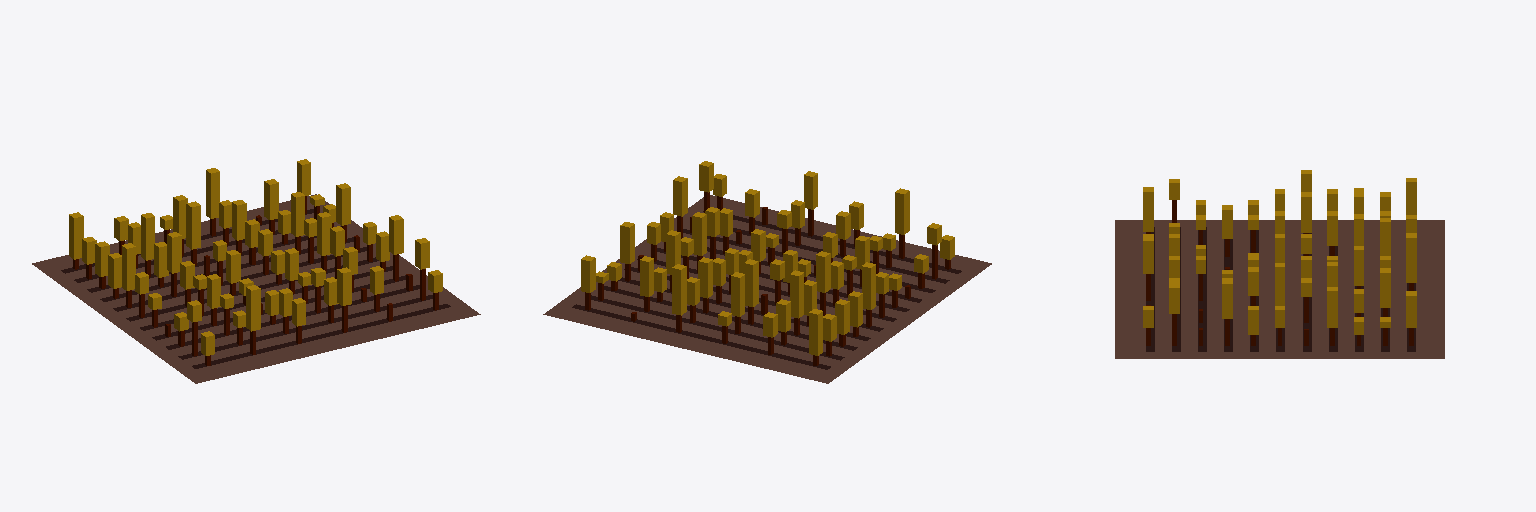
3 views of the same model, side by side, from view 1: azimuth 30°, elevation 25°; view 2: azimuth 150°, elevation 25°; view 3: azimuth 270°, elevation 25° (orthographic).
Parts seen in each view (by area): view 1: Land_33%_Plane.008; view 2: Land_33%_Plane.008; view 3: Land_33%_Plane.008.
Part boxes in pixels (bbox=[...]): Land_33%_Plane.008: bbox=[32, 159, 480, 383]; Land_33%_Plane.008: bbox=[543, 161, 991, 383]; Land_33%_Plane.008: bbox=[1115, 170, 1444, 358].
Bounding box in the file's own units: 2 × 0.4438 × 2.
3 materials, 1 textured.